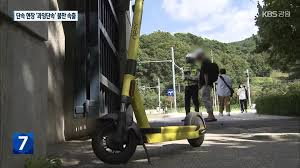kick_handler: (91, 122, 134, 162), (185, 113, 205, 144)
